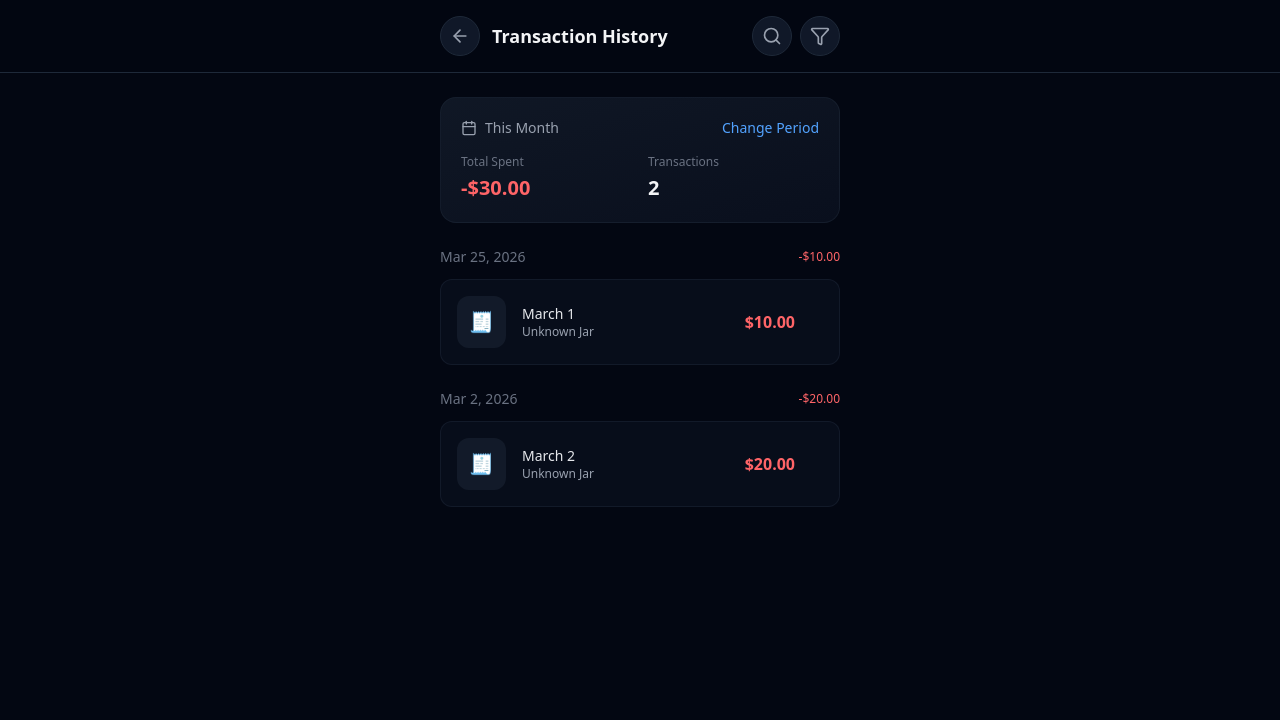
TransactionHistory period selection › updates the active label and visible transactions when switching to This Year
The width and height of the screenshot is (1280, 720).
Expected: the text "This Month" is shown, [485,118,559,138]
Expected: the text "2" is shown, [648,174,660,201]
Click the button "Change Period" at coordinates (770, 128), box [722,118,819,138]
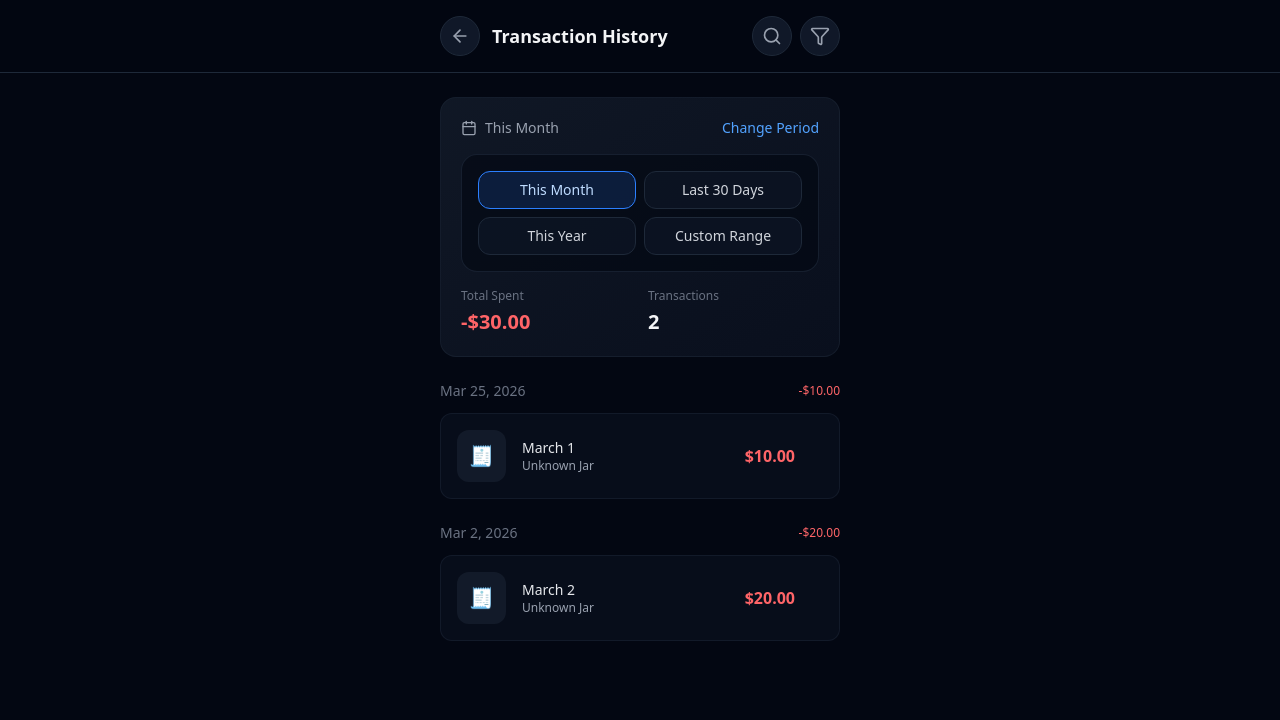
Click the button "This Year" at coordinates (557, 236), box [478,217,636,255]
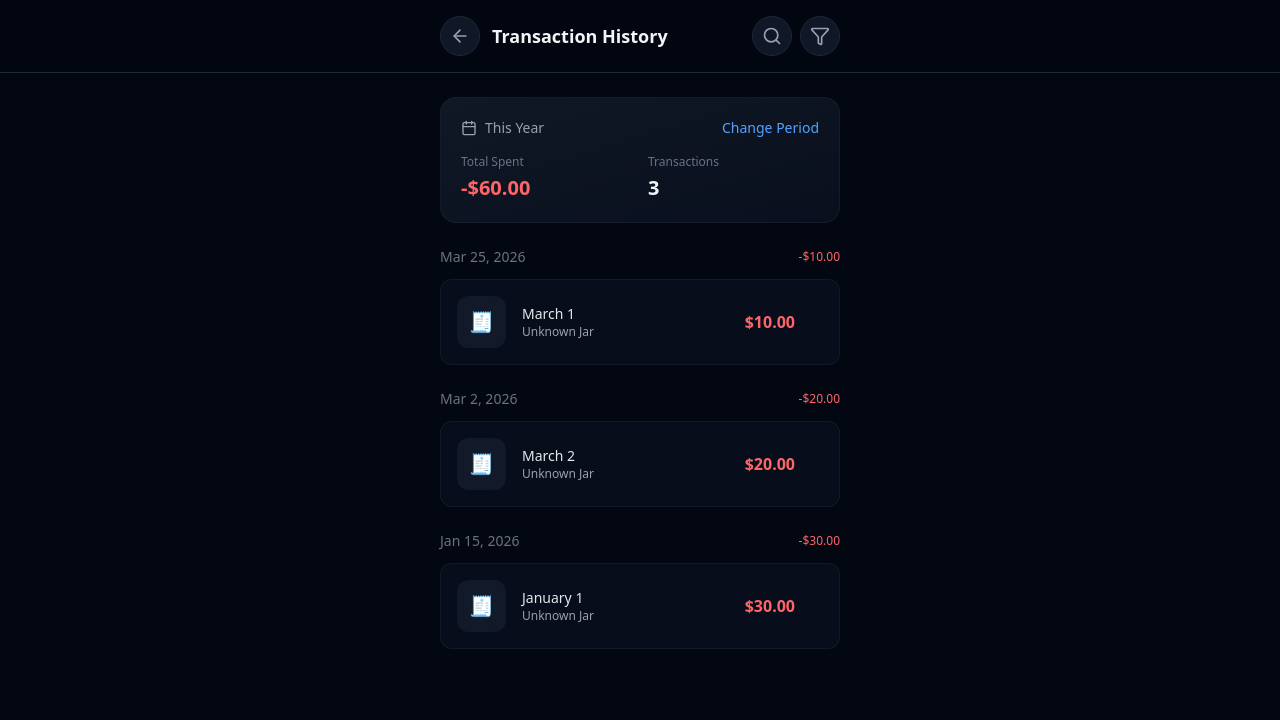
Now the text "This Year" is shown, box [485,118,544,138]
Now the text "3" is shown, box [648,174,660,201]
Now the heading "January 1" is shown, box [522,588,594,608]
